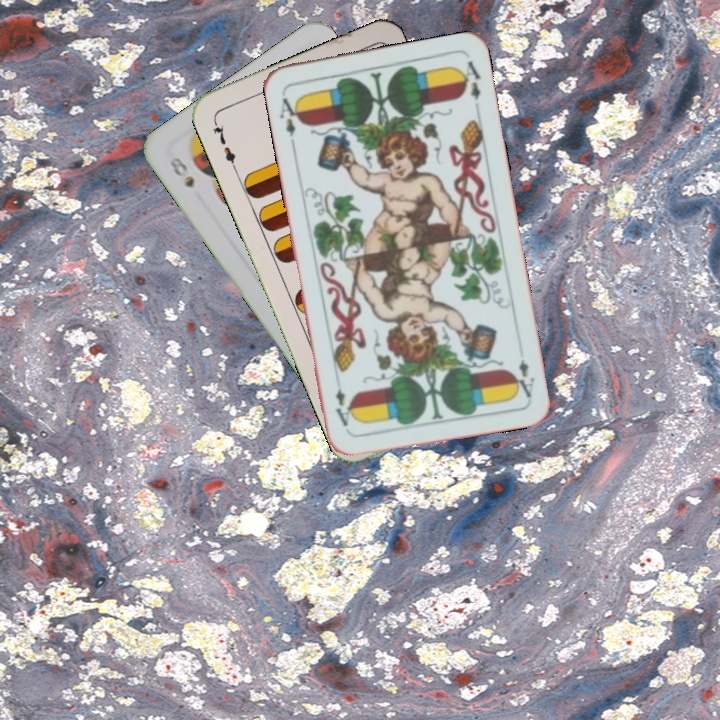E7: (209, 116, 239, 172)
EA: (275, 89, 304, 148), (510, 355, 537, 401)
S8: (165, 153, 197, 191)
